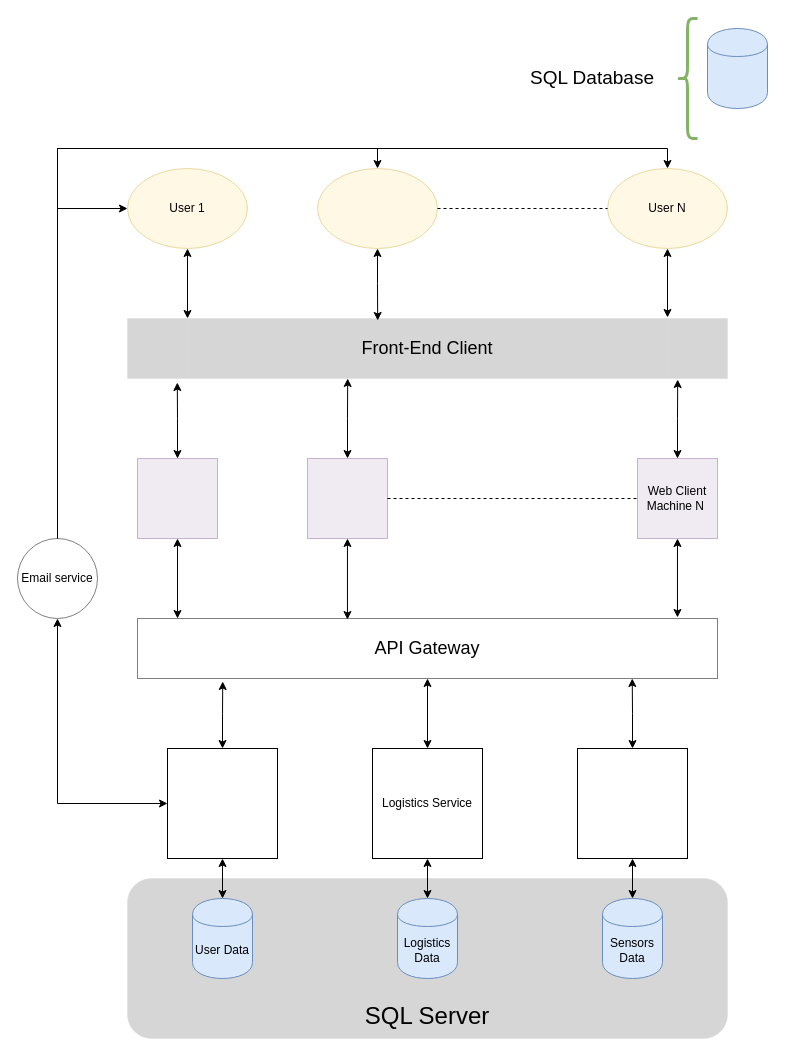
The diagram is 785 pixels wide and 1056 high, and some of its shapes have lost their labels. The centre of each missing label's shape, as x and y in pixels:
"Sensors service" belongs at point (632, 803).
"User 2" belongs at point (377, 208).
"Users service" belongs at point (222, 803).
"Web Client Machine 1" belongs at point (177, 498).
"Web Client Machine 2" belongs at point (347, 498).
